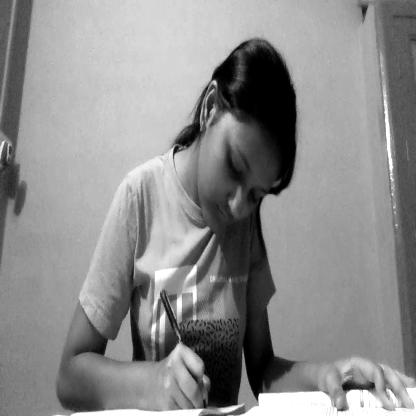Distracted: (200, 109, 276, 237)
